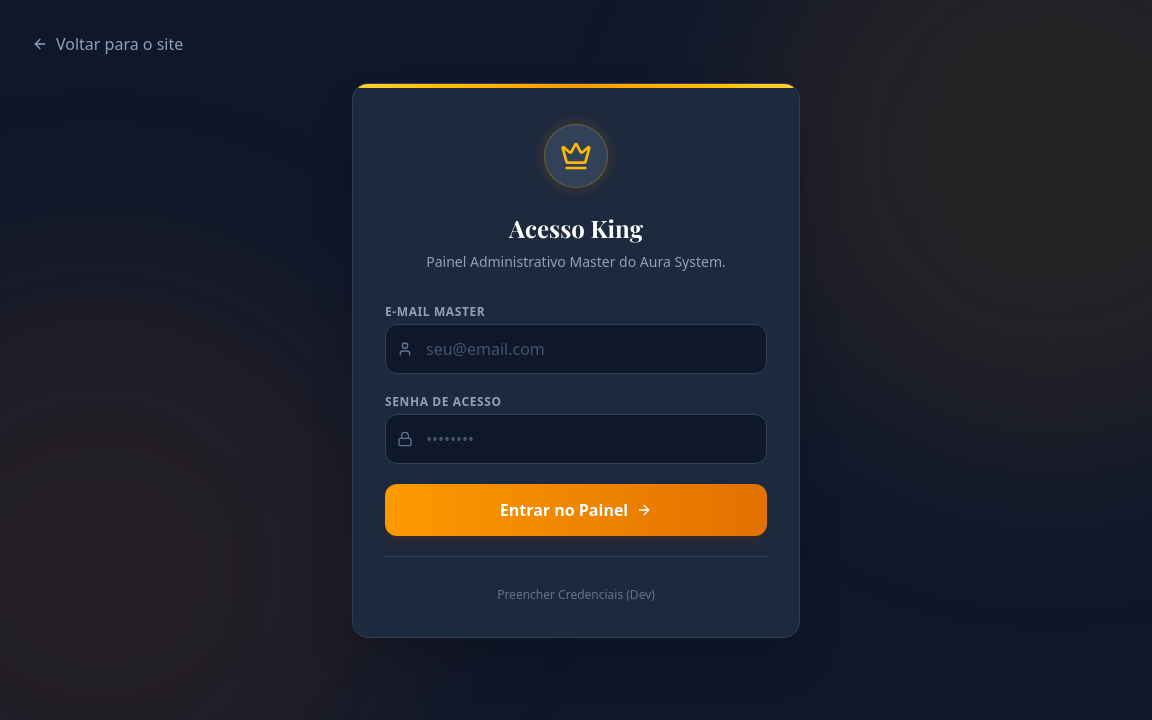
Test: pages/KingLogin › botão "Preencher Credenciais (Dev)" preenche email e senha de demonstração
Click the button "Preencher Credenciais (Dev)": click(576, 594) [497, 586, 655, 602]
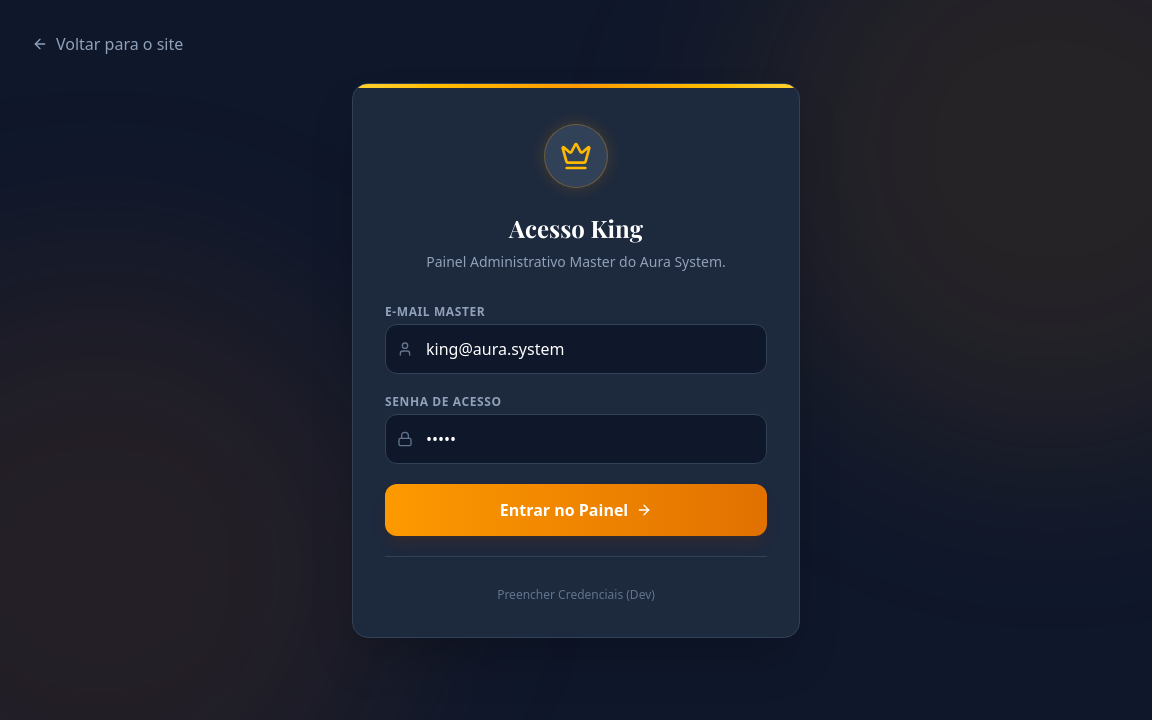
Expected: the field with placeholder "seu@email.com" holds "king@aura.system", [385, 324, 767, 374]
Expected: the password field with placeholder "••••••••" holds "admin", [385, 414, 767, 464]
